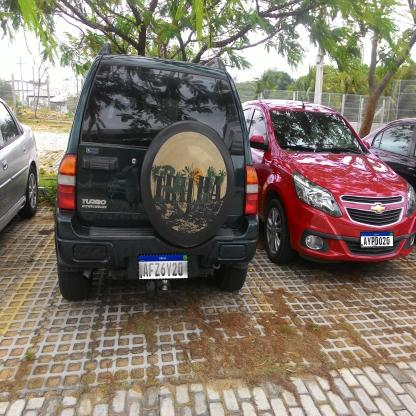PlacaM: (138, 253, 188, 281), (360, 232, 394, 248)
